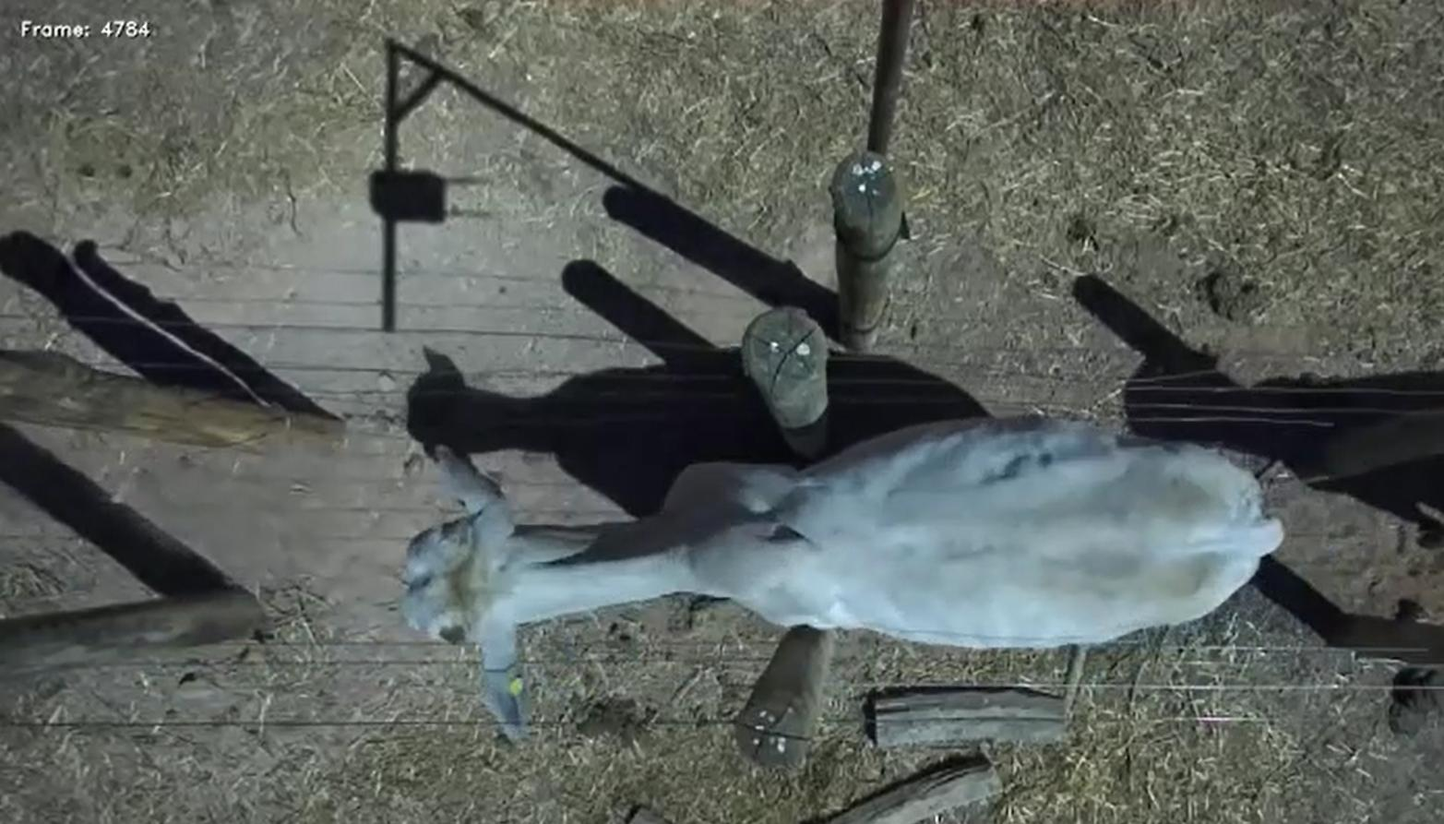cattle: (397, 411, 1285, 751)
